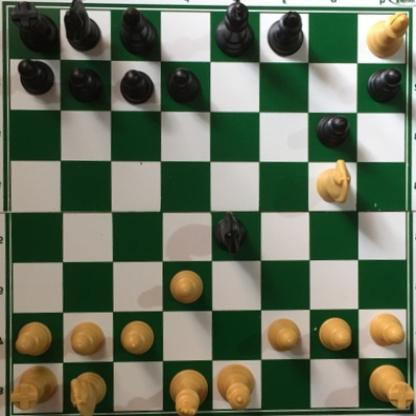black-bishop: (121, 3, 159, 54), (266, 5, 305, 53)
black-king: (217, 1, 257, 57)
black-knight: (63, 1, 100, 53), (215, 206, 248, 254)
black-pawn: (367, 67, 405, 105), (167, 66, 205, 104), (18, 59, 55, 96), (68, 66, 104, 104), (316, 114, 353, 150), (119, 69, 155, 105)
black-rook: (12, 1, 61, 53)
white-bishop: (364, 11, 412, 60)
white-king: (170, 366, 213, 416)
white-knight: (67, 370, 109, 416), (315, 157, 354, 206)
white-pawn: (120, 317, 158, 356), (264, 316, 303, 353), (15, 320, 54, 357), (316, 315, 354, 351), (69, 322, 106, 358), (368, 313, 406, 348), (168, 270, 205, 305)
white-queen: (217, 360, 259, 412)
white-rook: (367, 361, 415, 410), (12, 363, 61, 410)
